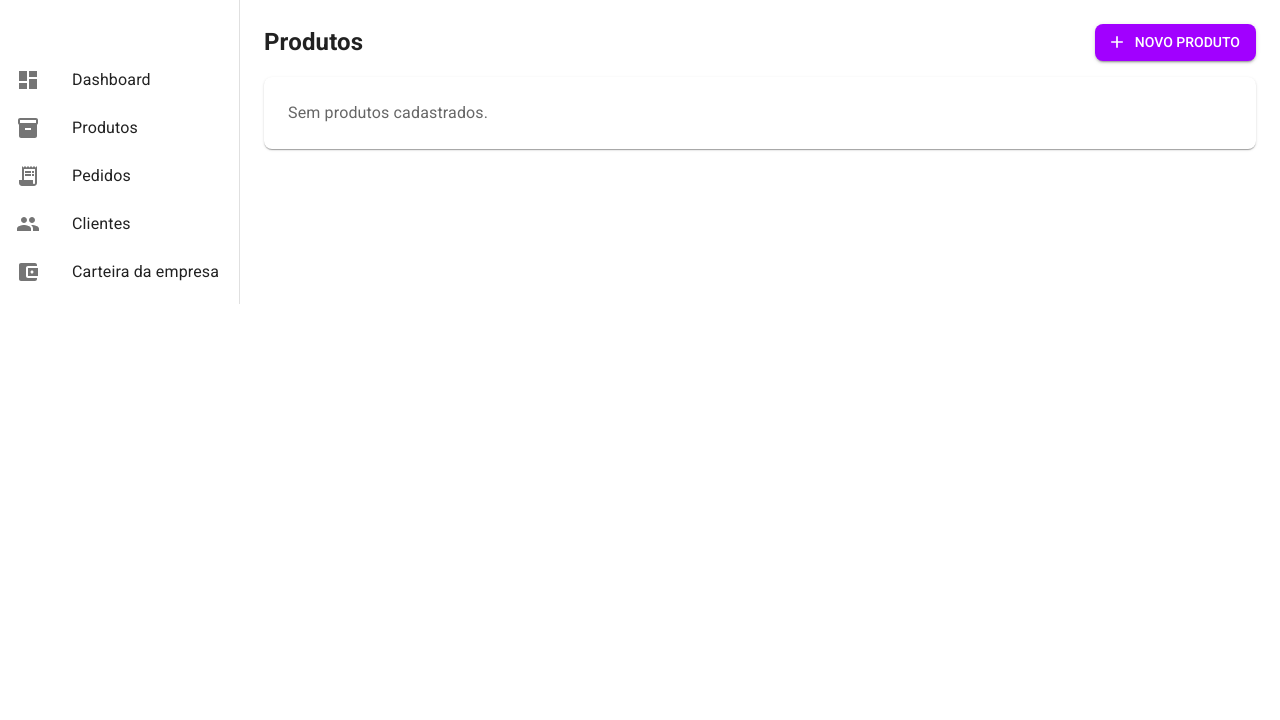
Test case: AdminProducts › botão Salvar fica desabilitado com form vazio
The image size is (1280, 720).
Expected: the text "Sem produtos cadastrados." is shown, top-left (288, 102), bottom-right (488, 122)
Click the button "Novo produto".
click(1175, 42)  # box top-left (1095, 24), bottom-right (1256, 60)
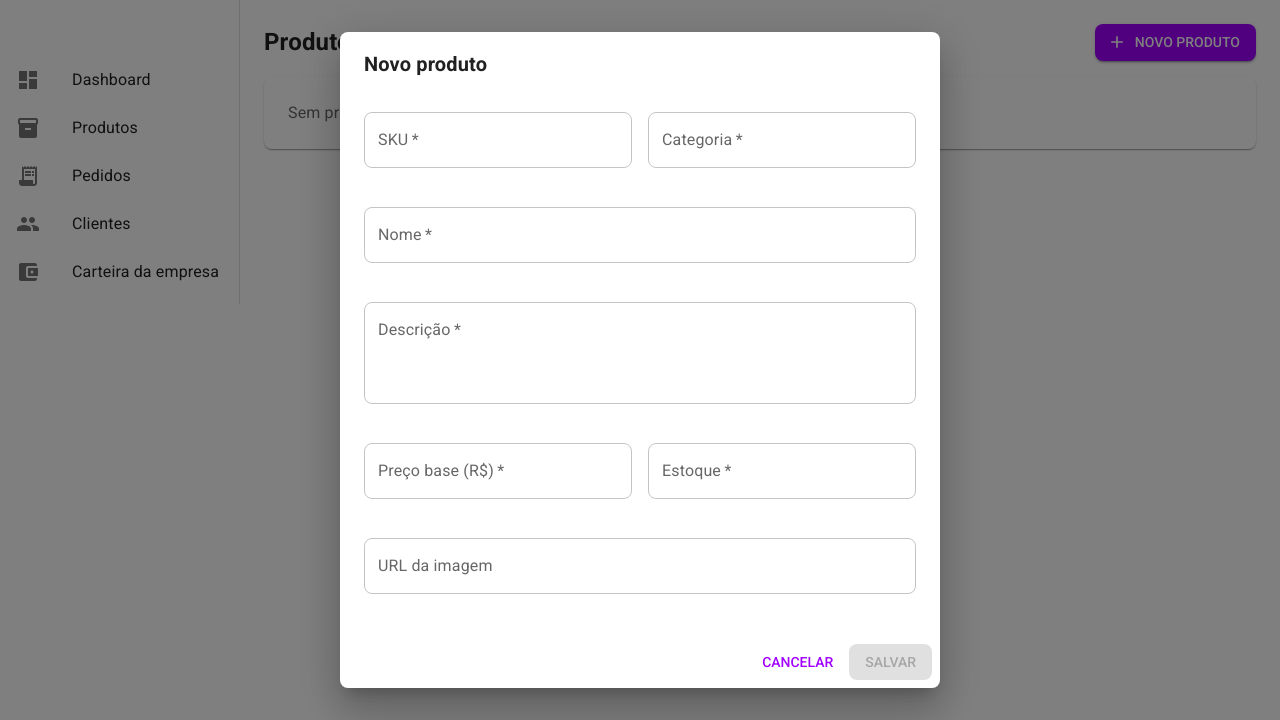
Expected: the button "Salvar" is disabled, top-left (849, 644), bottom-right (932, 680)
